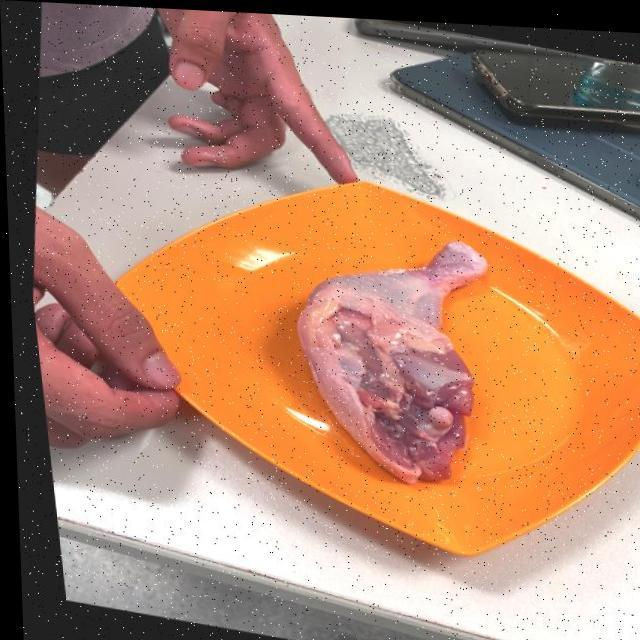quater: (300, 225, 490, 475)
